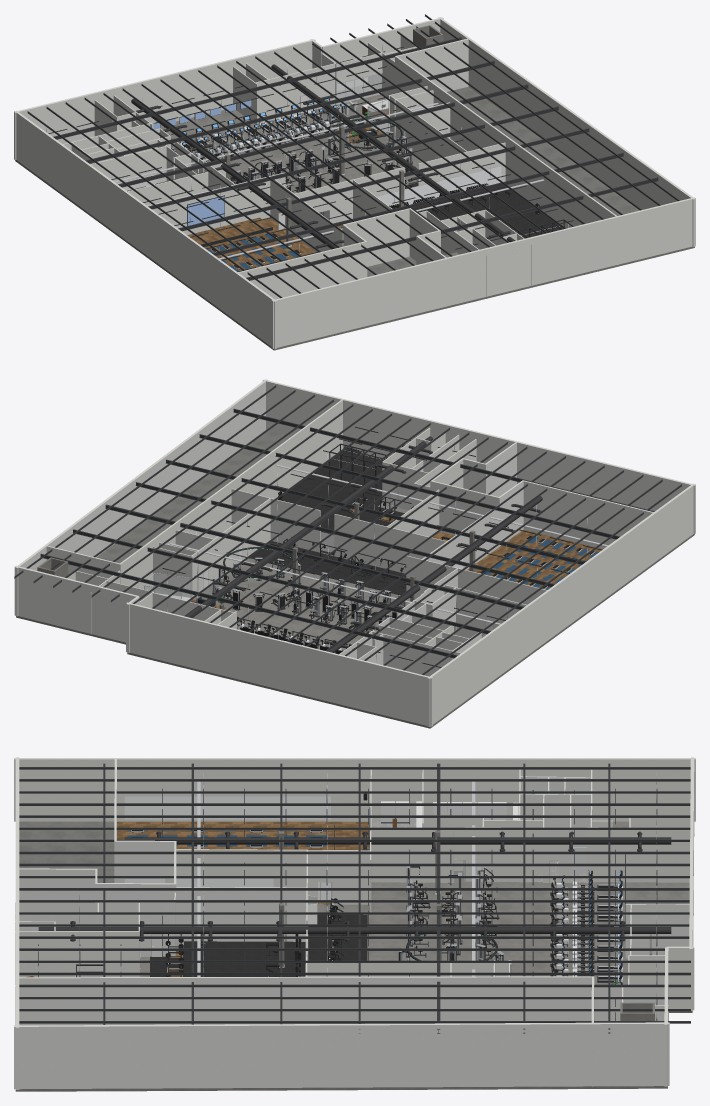
Rendered from fitx-biesdorf-web.glb.
3 renders of one model, top to bottom at view 1: azimuth 30°, elevation 25°; view 2: azimuth 150°, elevation 25°; view 3: azimuth 270°, elevation 25°, orthographic. The views are drawn at different scales.
Visible parts, largest first — view 1: Waende, Decke_Stahltraeger, Waende.001, Bodenplatte, Decke_Lueftung, Decke_LED_Linien, Boden_Freihantel, Boden_Ausdauer, Buehne, Boden_Zirkel, Boden_Kursraum, Spiegelwand_Freihantel (+4 smaller); view 2: Waende, Decke_Stahltraeger, Waende.001, Bodenplatte, Decke_Lueftung, Boden_Kursraum, Boden_Zirkel, Boden_Gerätetraining, Boden_Turnecke, Boden_Basics, Decke_LED_Linien, Boden_Freihantel (+3 smaller); view 3: Waende, Decke_Stahltraeger, Waende.001, Decke_Lueftung, Bodenplatte, Boden_Gerätetraining, Spiegelwand_Kurs_W, Boden_Ausdauer, Boden_Freihantel, Boden_Kursraum, Decke_LED_Linien, Boden_Basics (+6 smaller).
Part boxes in pixels (x1,y1,x2,y2): Waende: (14, 17, 695, 348); Decke_Stahltraeger: (27, 14, 679, 298); Waende.001: (14, 65, 695, 348); Bodenplatte: (15, 86, 694, 350); Decke_Lueftung: (114, 64, 544, 259); Decke_LED_Linien: (46, 41, 573, 271); Boden_Freihantel: (414, 185, 562, 237); Boden_Ausdauer: (171, 110, 355, 164); Buehne: (187, 195, 272, 246); Boden_Zirkel: (297, 136, 421, 182); Boden_Kursraum: (203, 218, 316, 271); Spiegelwand_Freihantel: (376, 165, 501, 205); Waende: (14, 379, 695, 726); Decke_Stahltraeger: (14, 385, 681, 675); Waende.001: (15, 407, 695, 726); Bodenplatte: (16, 430, 694, 728); Decke_Lueftung: (169, 436, 608, 652); Boden_Kursraum: (467, 529, 602, 589); Boden_Zirkel: (193, 560, 331, 624); Boden_Gerätetraining: (270, 580, 410, 644); Boden_Turnecke: (295, 450, 385, 506); Boden_Basics: (250, 541, 406, 594); Decke_LED_Linien: (162, 426, 602, 667); Boden_Freihantel: (278, 486, 404, 554); Waende: (14, 757, 695, 1089); Decke_Stahltraeger: (19, 763, 690, 1033); Waende.001: (14, 793, 695, 1089); Decke_Lueftung: (38, 781, 671, 976); Bodenplatte: (15, 821, 694, 1091); Boden_Gerätetraining: (373, 883, 531, 960); Spiegelwand_Kurs_W: (124, 796, 330, 819); Boden_Ausdauer: (531, 884, 626, 984); Boden_Freihantel: (150, 941, 305, 976); Boden_Kursraum: (117, 821, 369, 904); Decke_LED_Linien: (38, 773, 657, 1020); Boden_Basics: (308, 914, 367, 960).
Size of the model in its own units: 55.9 by 6.25 by 59.57.
37 materials, 10 textured.
